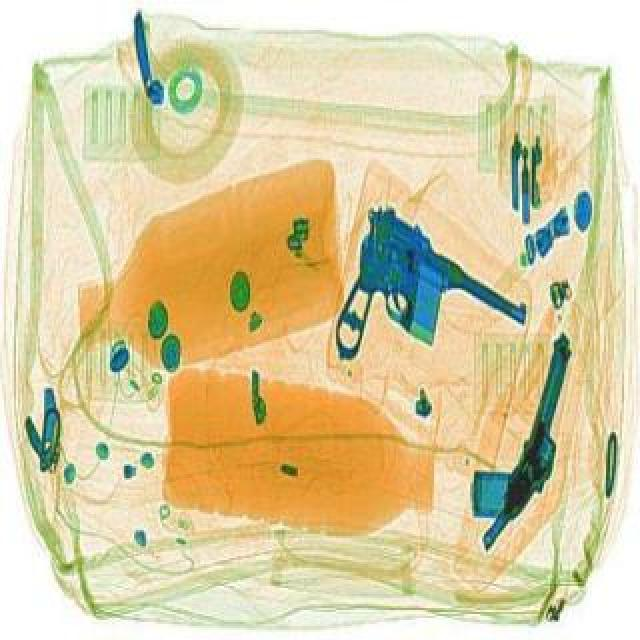gun: (276, 192, 536, 424), (480, 326, 592, 556)
